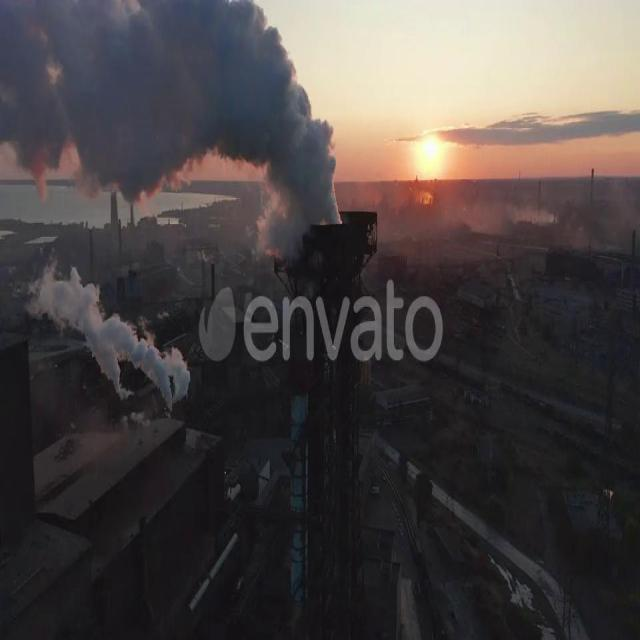Fire: (418, 131, 448, 179)
Smoke: (0, 0, 353, 249)
